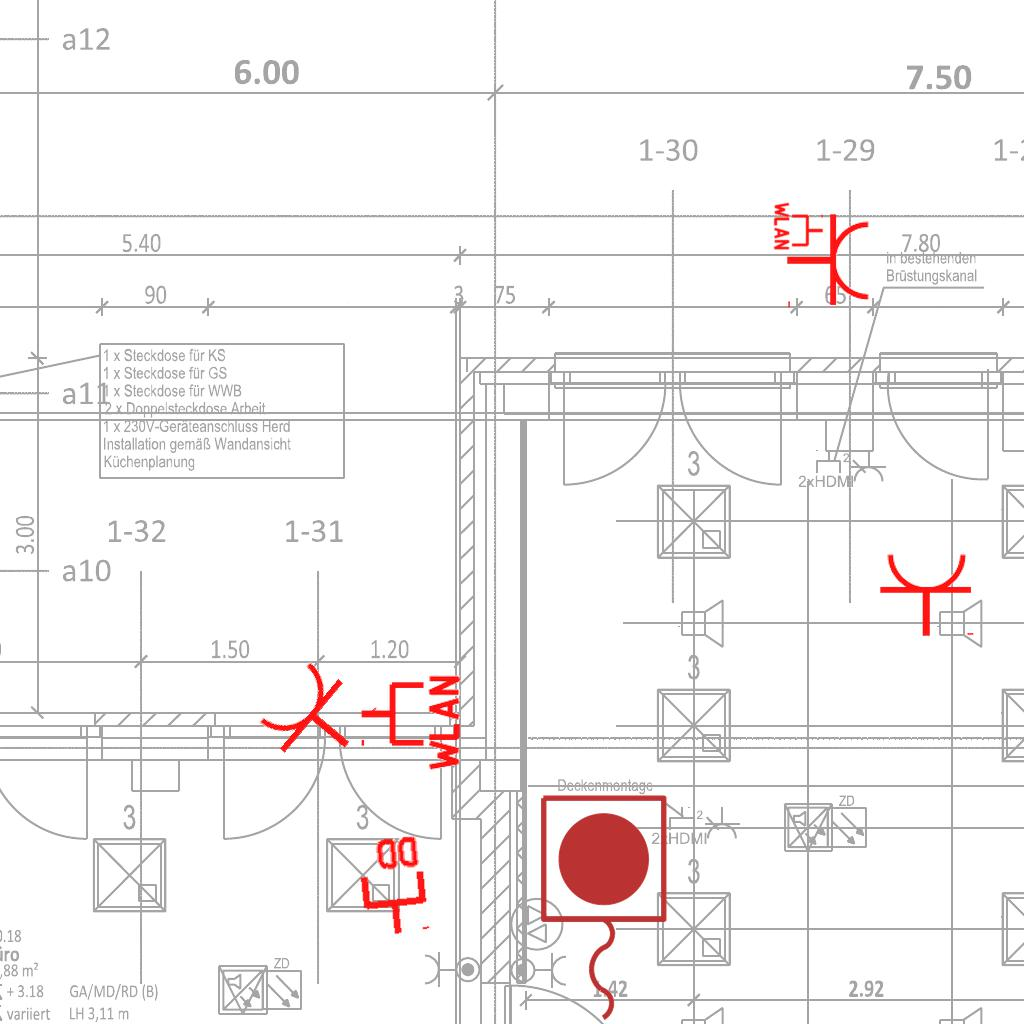Datenanschluss_zweifach: (351, 830, 432, 941)
Schukosteckdose_einfach: (251, 650, 382, 784), (878, 551, 978, 638), (785, 212, 872, 312)
WLAN: (357, 671, 462, 775), (773, 200, 825, 252)
Zugtaster: (530, 787, 674, 1024)
